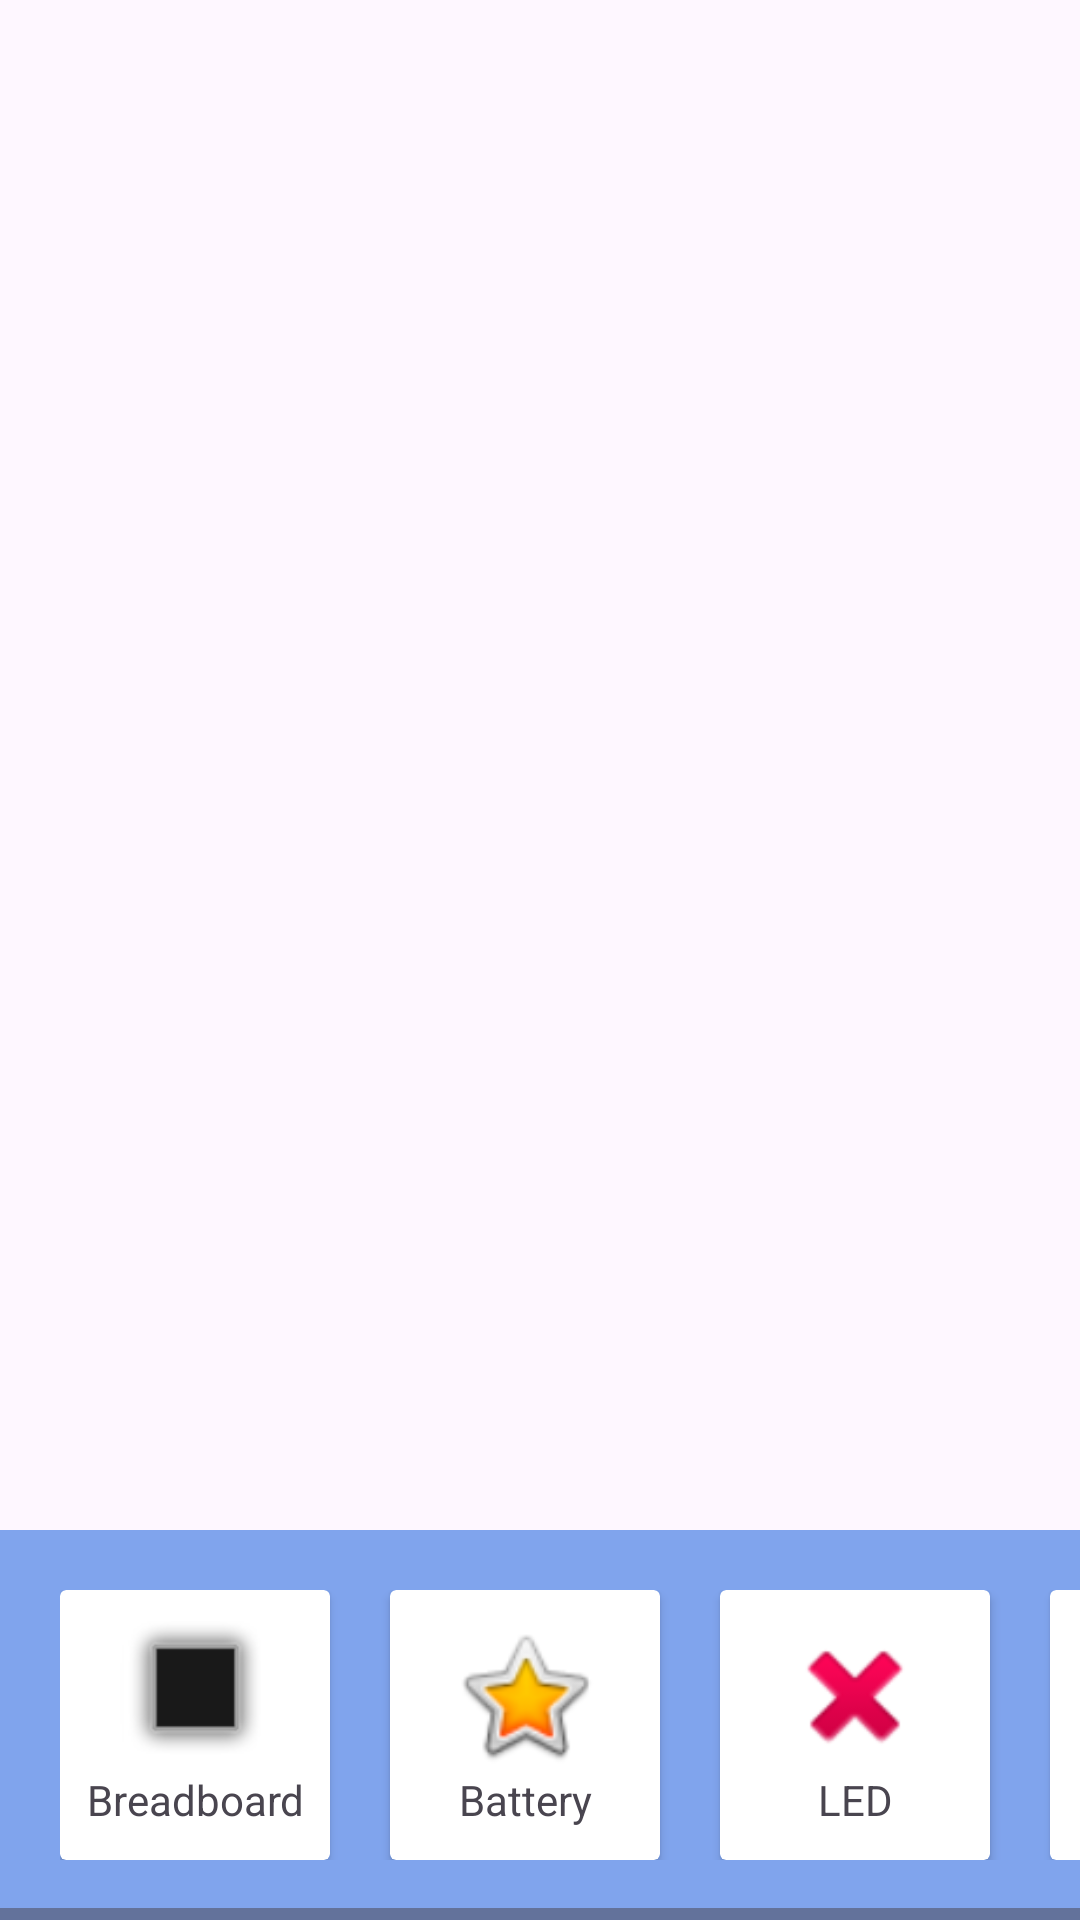

Named icons in this screenshot (1080*1920) and their centers, [x,y]:
delete: [855,1697]
star on: [526,1697]
